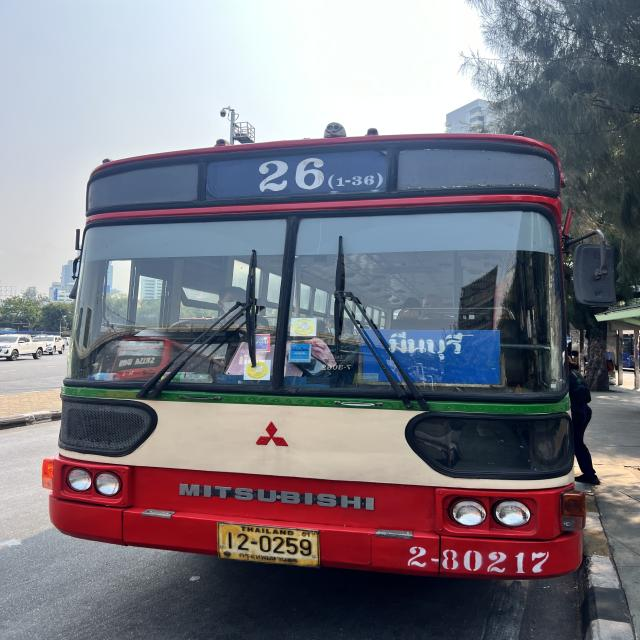BMTA-bus: (41, 117, 596, 582)
Bus-Line-Number: (202, 152, 393, 203)
Destination-Sign-Normal: (362, 328, 504, 387)
